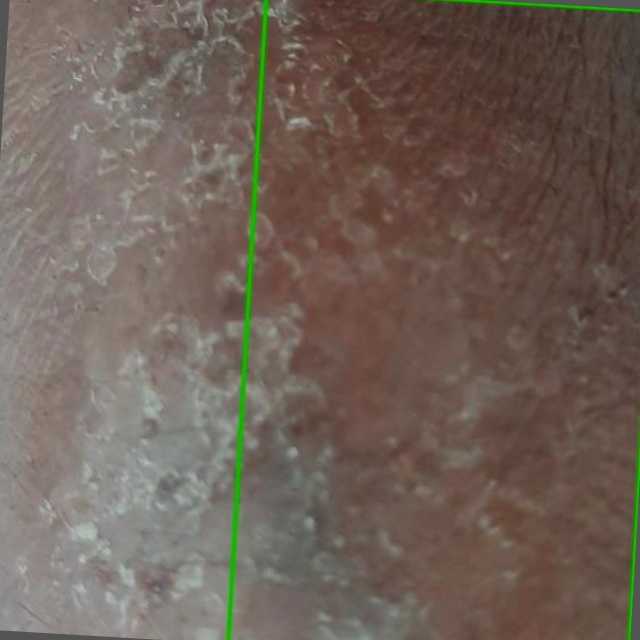Eczema: (228, 0, 639, 639)
